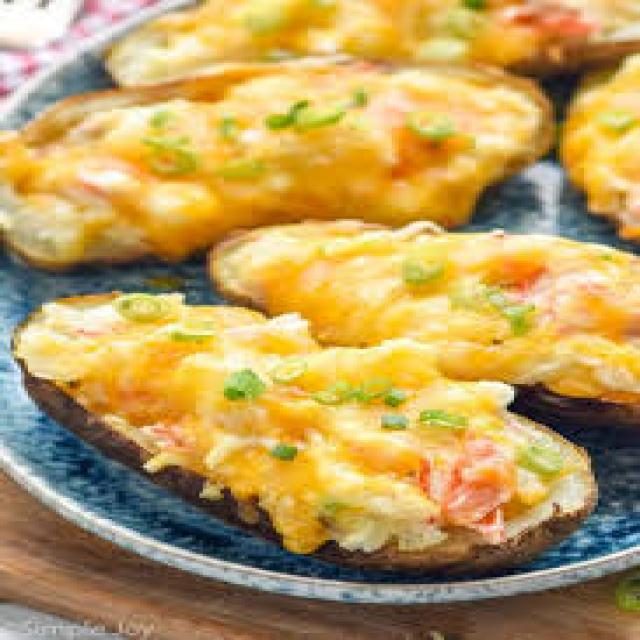Baked Potato: (58, 60, 639, 449)
